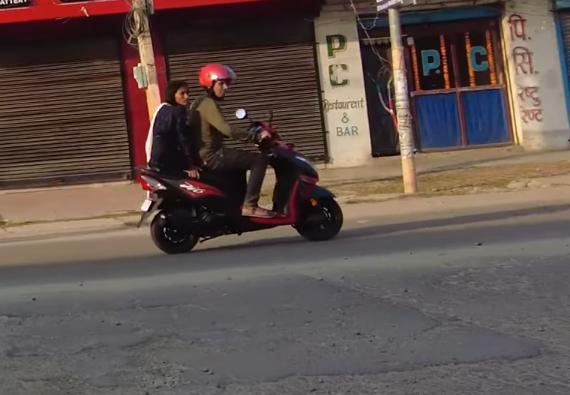scooter: (125, 102, 356, 259)
